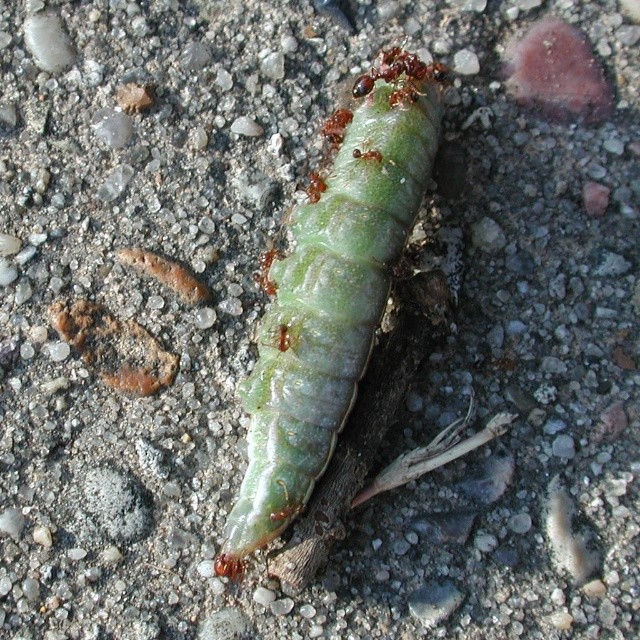Caterpillar: (213, 44, 443, 577)
